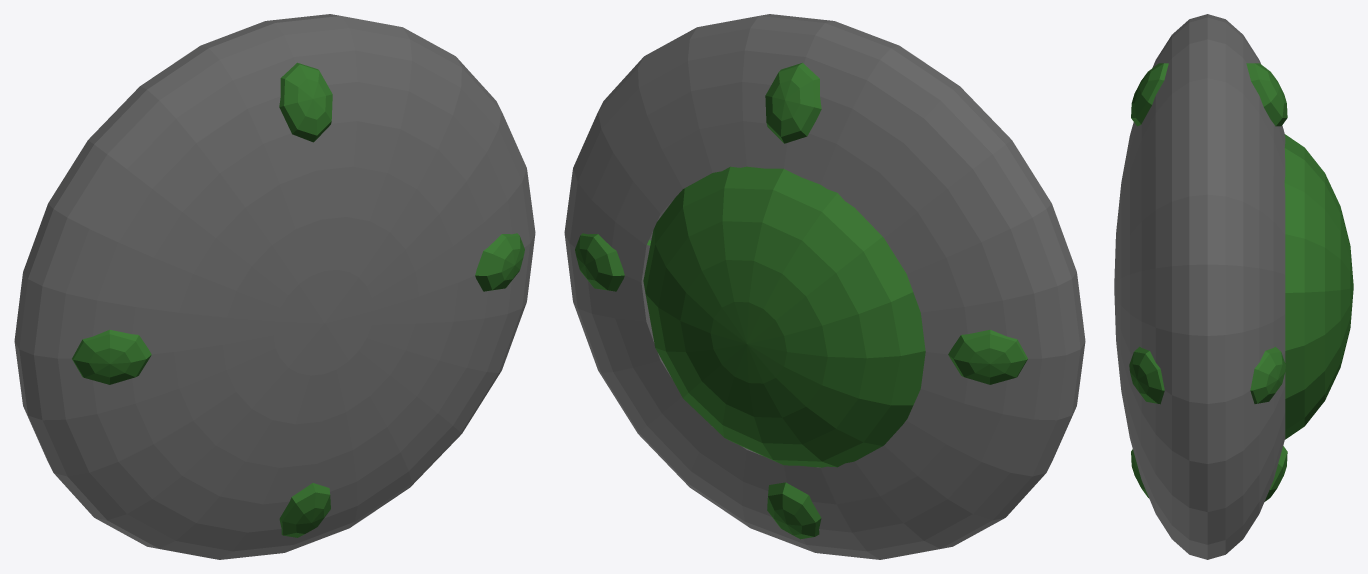
Rendered from ufo.glb.
3 views of the same model, side by side, from view 1: azimuth 30°, elevation 25°; view 2: azimuth 150°, elevation 25°; view 3: azimuth 270°, elevation 25° (orthographic). The views are drawn at different scales.
Visible parts, largest first — view 1: Hull, Small Window, Small Window.001; view 2: Hull, Window, Small Window.001, Small Window; view 3: Hull, Window, Small Window.001, Small Window.
Boxes of the visible parts, x1,y1,x2,y2 form: Hull: (14,14,535,559); Small Window: (72,233,524,384); Small Window.001: (279,62,332,537); Hull: (564,14,1085,559); Window: (643,166,925,467); Small Window.001: (765,62,821,539); Small Window: (575,233,1027,384); Hull: (1114,14,1285,559); Window: (1284,134,1353,439); Small Window.001: (1131,63,1287,501); Small Window: (1129,346,1285,404).
Bounding box in the file's own units: 0.6972 × 0.6877 × 0.3015.
